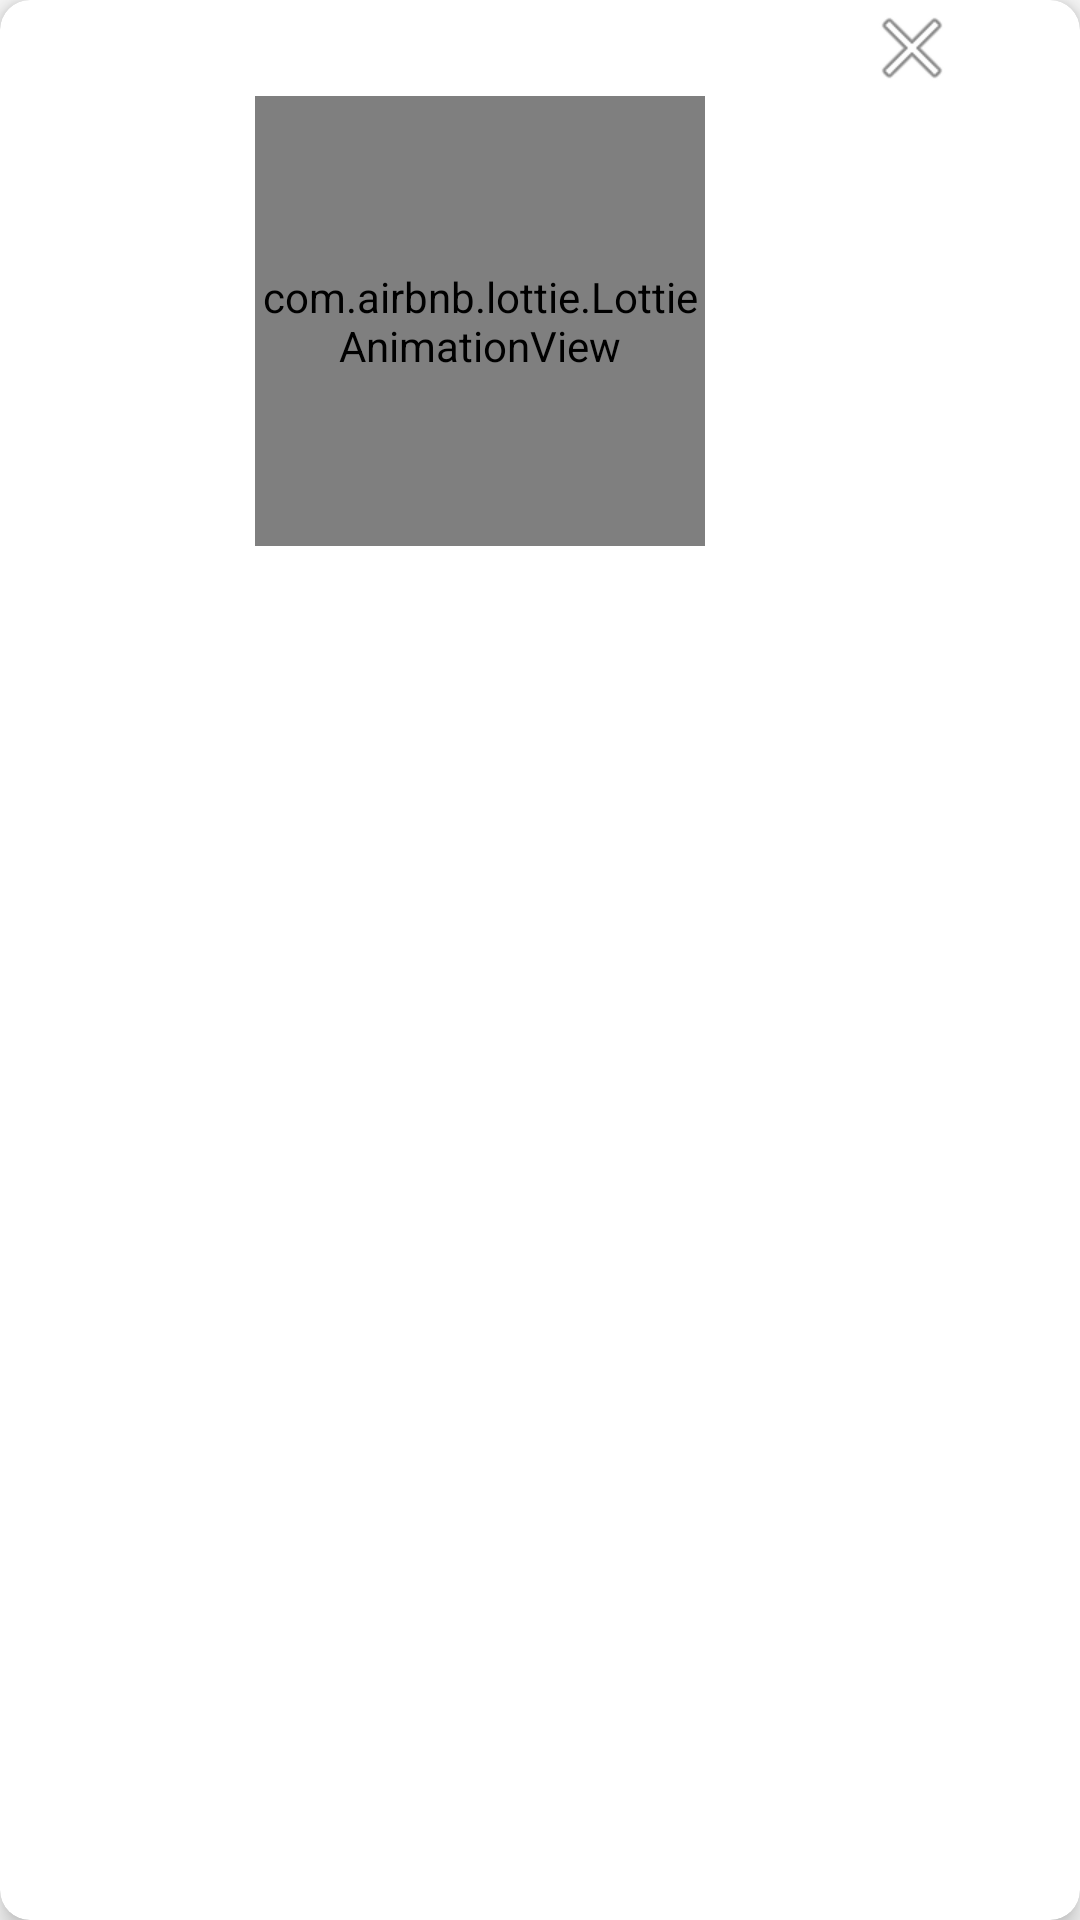

Point at icon controls on the screen. Image size 1080px×1920px, points as [x,y].
close clear cancel: [912,48]
